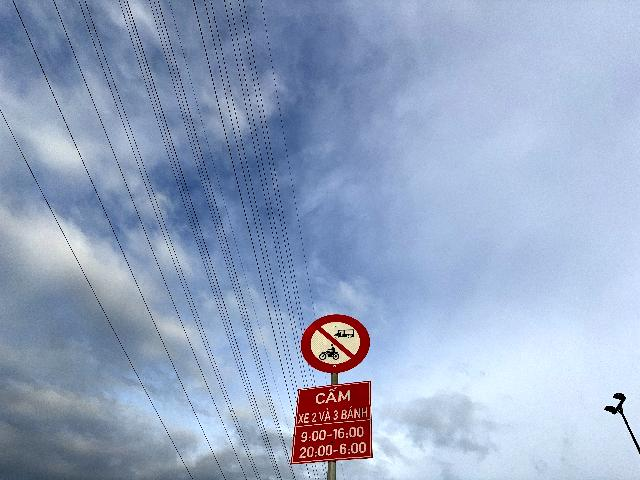cam-xe-2-banh-3-banh: (300, 313, 370, 373)
